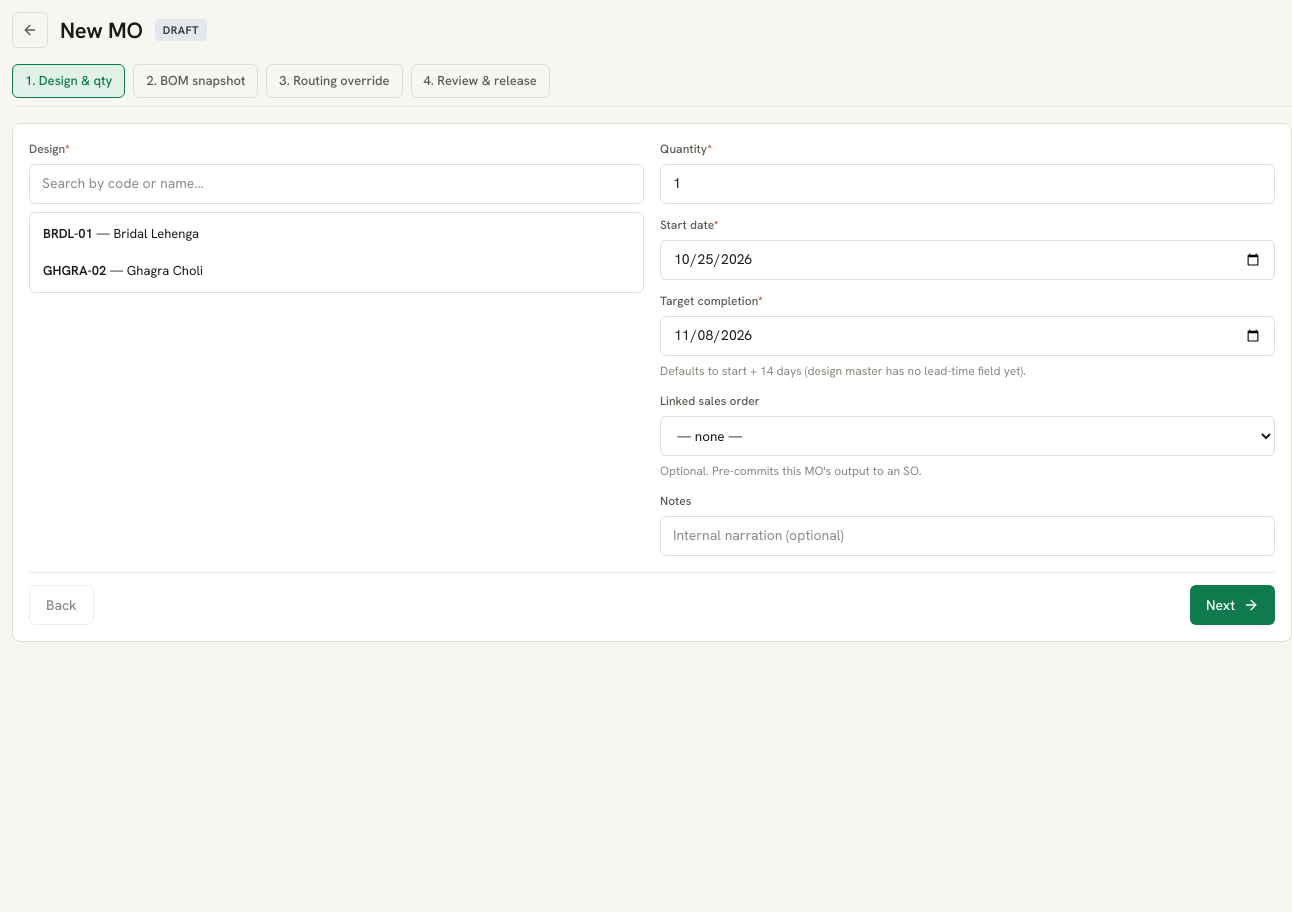
Scenario: MoCreateWizard — Section 2 (BOM snapshot) › loads BOM lines when a design is selected and renders availability badges
Note: Pick a design.
Click the option "BRDL-01 — Bridal Lehenga" at x=68, y=233, box [34,216,639,250]
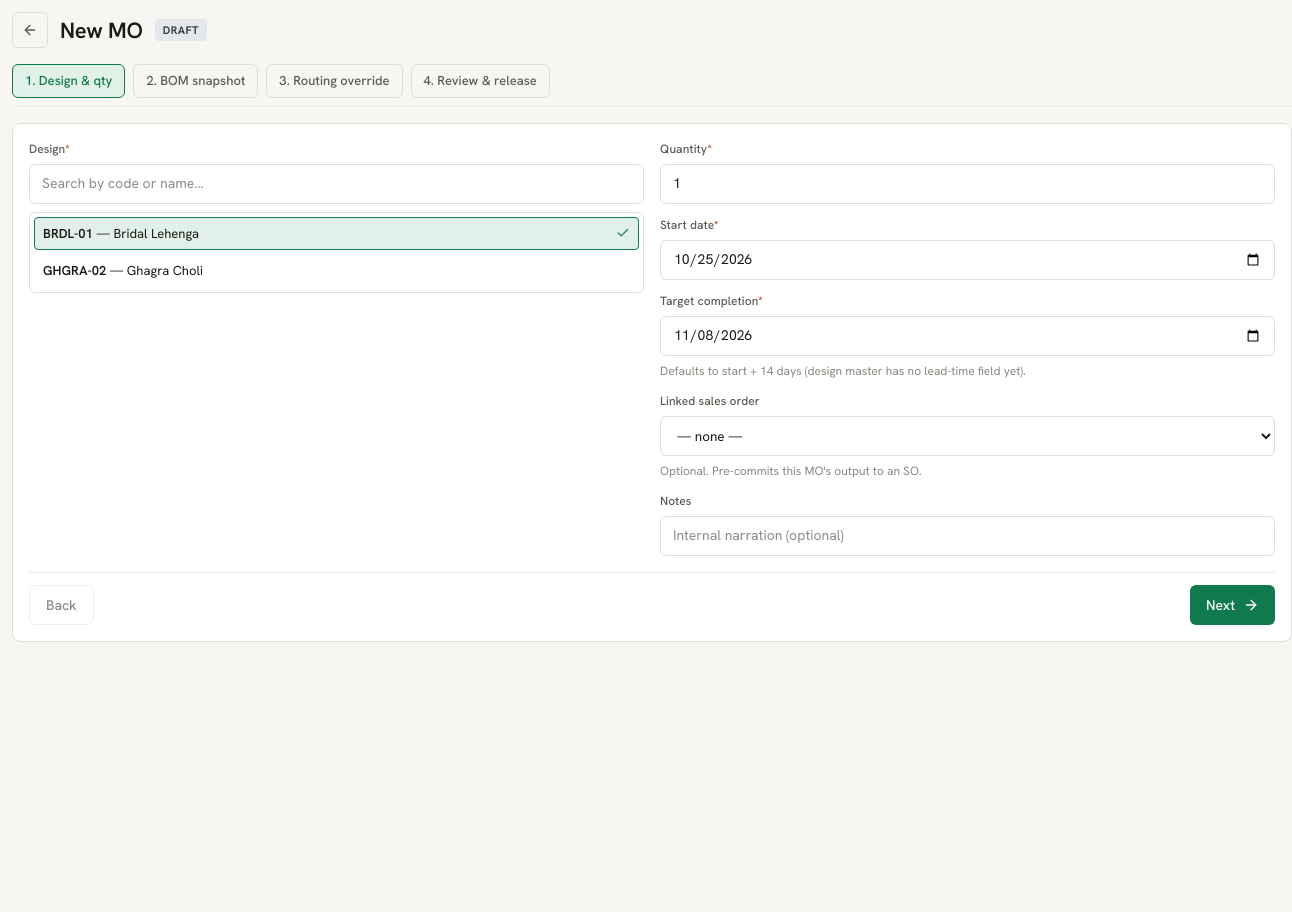
Replace the text in the number field labelled "Quantity*" with "10" at x=968, y=184, box [661,173,1274,194]
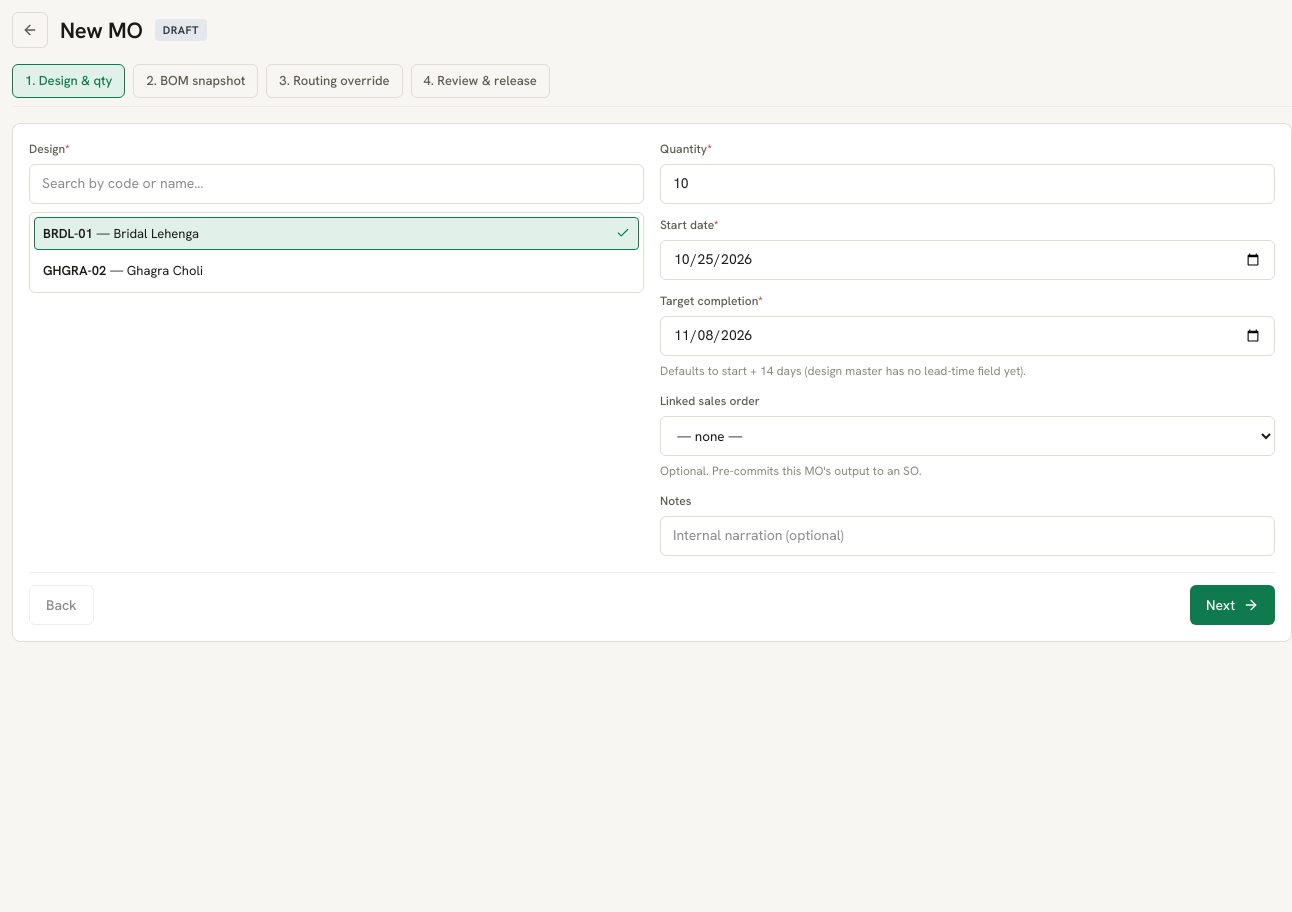
Note: Jump to Section 2.
Click the tab "2. BOM snapshot" at x=196, y=81, box [133,64,258,98]
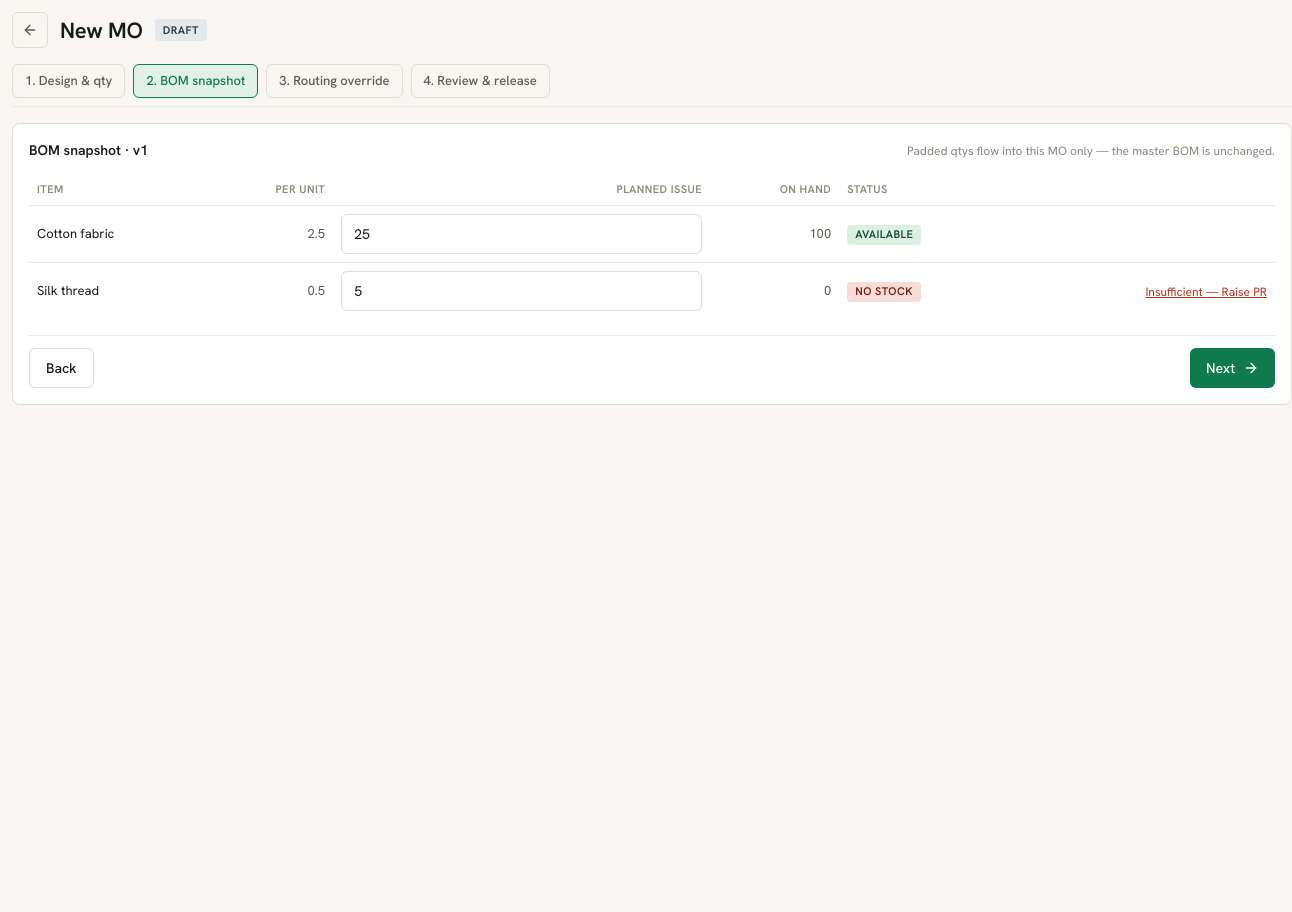
Check: the text "Cotton fabric" is shown, box [29,206,208,262]
Check: the text "Silk thread" is shown, box [29,262,208,319]
Check: the number of elements with test id "availability-badge" is 2, box [847,225,921,245]; [847,282,921,302]
